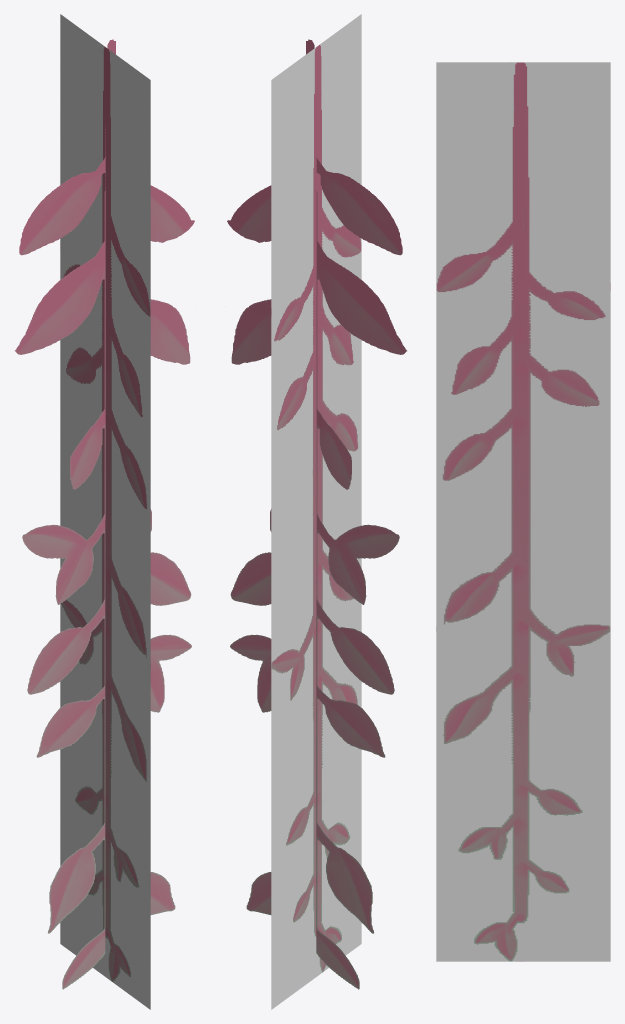
Rendered from M_plante_arbre_5.FBX.
3 views of the same model, side by side, from view 1: azimuth 30°, elevation 25°; view 2: azimuth 150°, elevation 25°; view 3: azimuth 270°, elevation 25° (orthographic). The views are drawn at different scales.
Visible parts, largest first — view 1: Plane192, Plane190; view 2: Plane192, Plane190; view 3: Plane192.
Boxes of the visible parts, x1=… form: Plane192: x1=60, y1=14, x2=150, y2=1009; Plane190: x1=15, y1=39, x2=194, y2=989; Plane192: x1=271, y1=14, x2=361, y2=1009; Plane190: x1=227, y1=39, x2=406, y2=989; Plane192: x1=436, y1=62, x2=610, y2=961.
Size of the model in its own units: 166 by 818 by 142.
